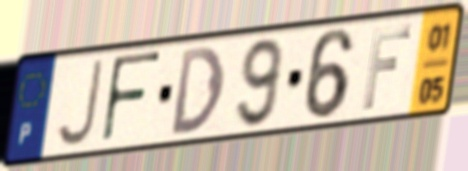6: (300, 26, 357, 123)
9: (233, 34, 285, 130)
D: (169, 43, 227, 139)
F: (98, 48, 165, 147), (359, 23, 415, 113)
J: (53, 57, 106, 151)
